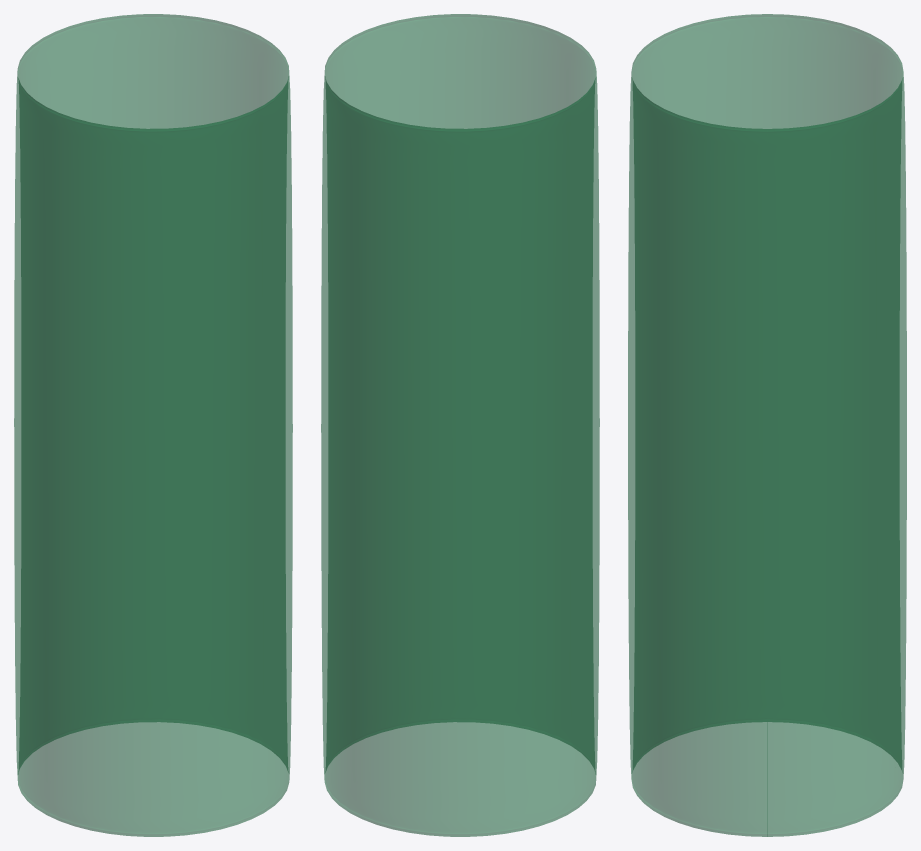
File: limit.FBX
3 views of the same model, side by side, from view 1: azimuth 30°, elevation 25°; view 2: azimuth 150°, elevation 25°; view 3: azimuth 270°, elevation 25° (orthographic).
Parts seen in each view (by area): view 1: Torus001; view 2: Torus001; view 3: Torus001.
Part boxes in pixels (box(x1,y1,x2,y2)): Torus001: box(14, 14, 292, 836); Torus001: box(321, 14, 599, 836); Torus001: box(628, 14, 906, 836).
Size of the model in its own units: 2 by 5.61 by 2.
